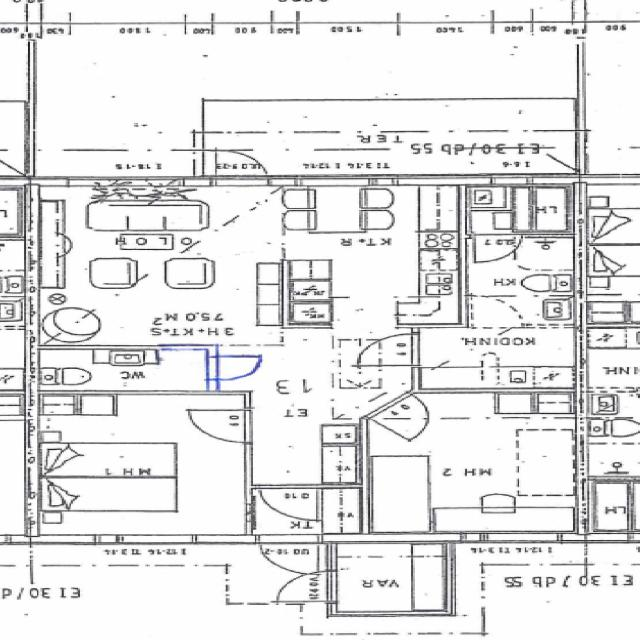door: (366, 391, 454, 442), (259, 533, 319, 577), (260, 484, 318, 521), (188, 410, 253, 442), (216, 147, 267, 186), (358, 334, 421, 365), (276, 571, 338, 600), (476, 234, 524, 264), (208, 356, 261, 380)
